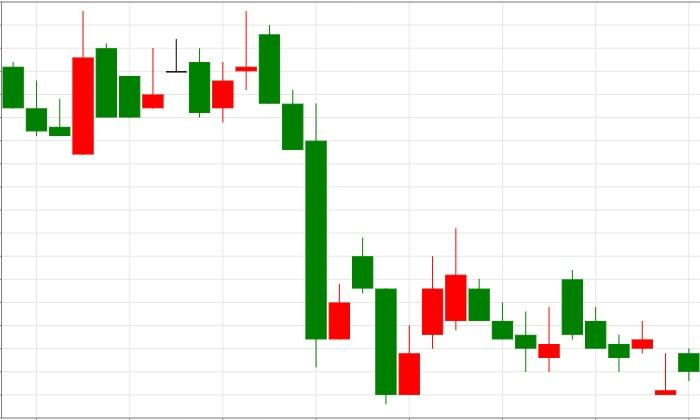three_black_crows_fall: (71, 11, 328, 367)
